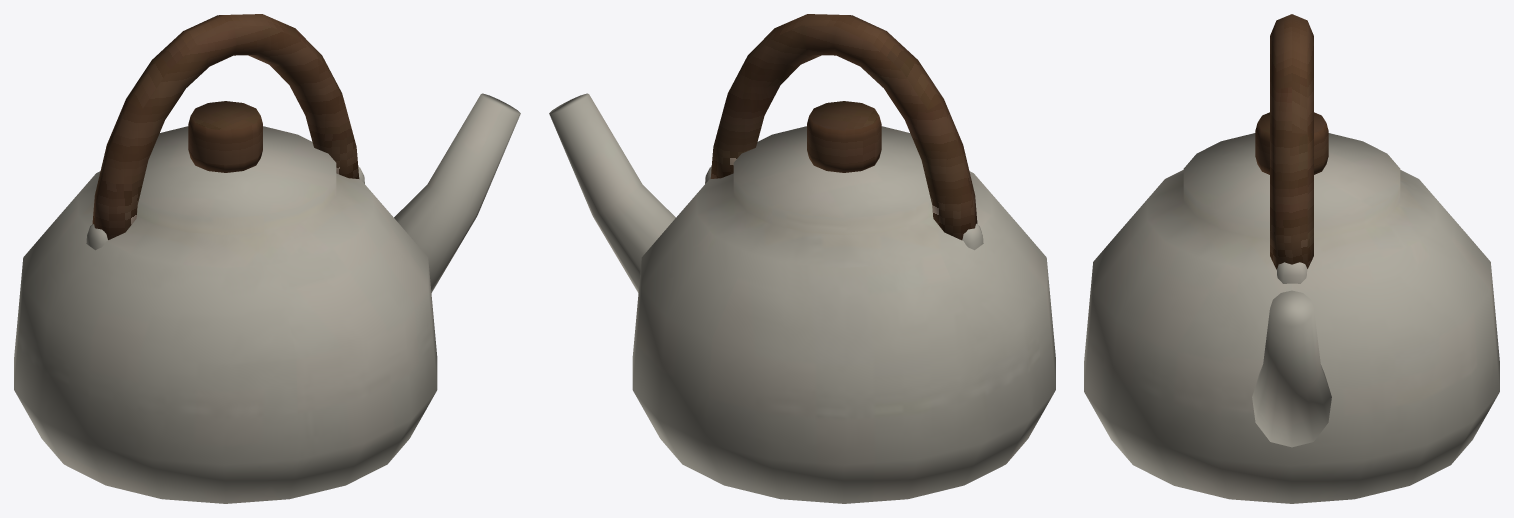
Rendered from kettle_enamel.glb.
3 renders of one model, left to right at view 1: azimuth 30°, elevation 25°; view 2: azimuth 150°, elevation 25°; view 3: azimuth 270°, elevation 25°, orthographic.
Visible parts, largest first — view 1: prop_kettle_enamel_felt, prop_kettle_enamel_wood; view 2: prop_kettle_enamel_felt, prop_kettle_enamel_wood; view 3: prop_kettle_enamel_felt, prop_kettle_enamel_wood.
Boxes of the visible parts, box(x1,y1,x2,y2) form: prop_kettle_enamel_felt: box(14, 93, 520, 503); prop_kettle_enamel_wood: box(92, 14, 359, 239); prop_kettle_enamel_felt: box(549, 93, 1055, 503); prop_kettle_enamel_wood: box(710, 14, 977, 240); prop_kettle_enamel_felt: box(1084, 133, 1499, 503); prop_kettle_enamel_wood: box(1255, 14, 1328, 269).
Size of the model in its own units: 0.5906 by 0.484 by 0.453.
2 materials, 2 textured.
